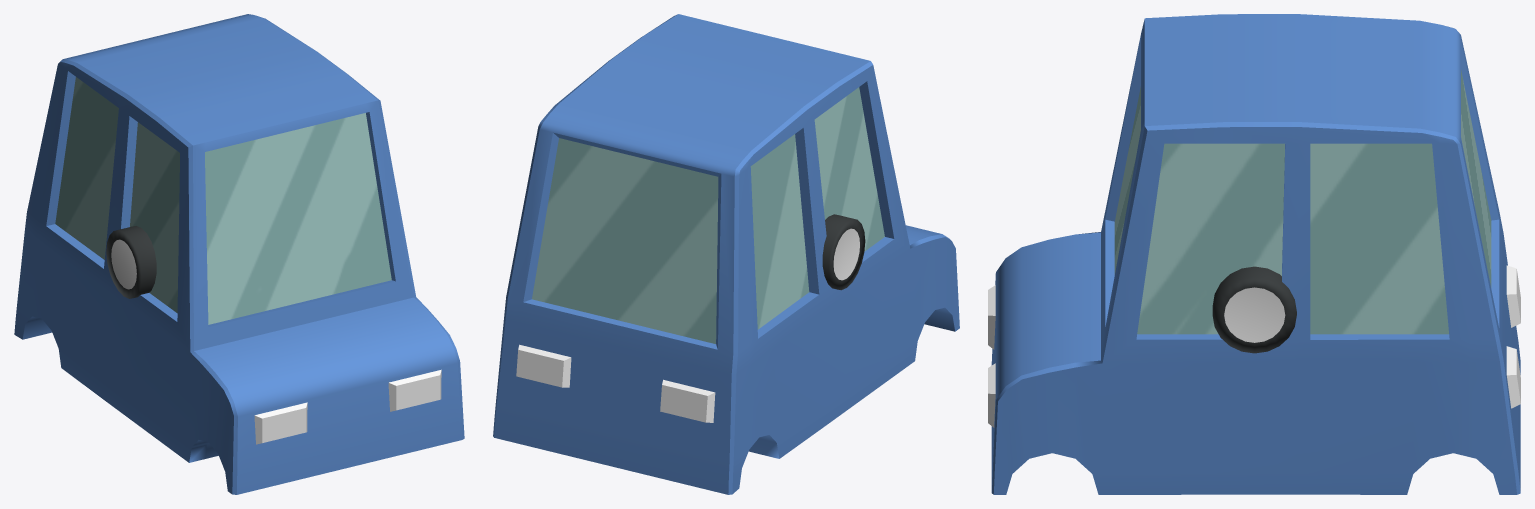
The model's file is car_3_B.fbx.
3 renders of one model, left to right at view 1: azimuth 30°, elevation 25°; view 2: azimuth 150°, elevation 25°; view 3: azimuth 270°, elevation 25°, orthographic. The views are drawn at different scales.
Visible parts, largest first — view 1: car_3_chasis_B, car_3_back_wheel_B, car_3_right_wheel_B; view 2: car_3_chasis_B, car_3_back_wheel_B, car_3_right_wheel_B; view 3: car_3_chasis_B, car_3_left_wheel_B.
Part boxes in pixels (x1,y1,x2,y2): car_3_chasis_B: (14, 14, 464, 494); car_3_back_wheel_B: (106, 226, 156, 298); car_3_right_wheel_B: (116, 226, 156, 296); car_3_chasis_B: (493, 14, 959, 494); car_3_back_wheel_B: (822, 214, 865, 290); car_3_right_wheel_B: (822, 215, 849, 288); car_3_chasis_B: (988, 14, 1520, 494); car_3_left_wheel_B: (1212, 266, 1296, 353).
Size of the model in its own units: 92.39 by 115 by 154.
